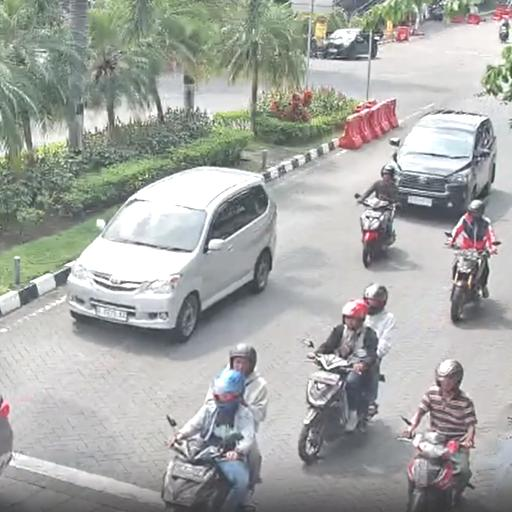mobil: (65, 161, 279, 340), (393, 110, 499, 224)
motor: (297, 339, 379, 463), (402, 418, 471, 508), (443, 228, 503, 326), (352, 191, 398, 271)
